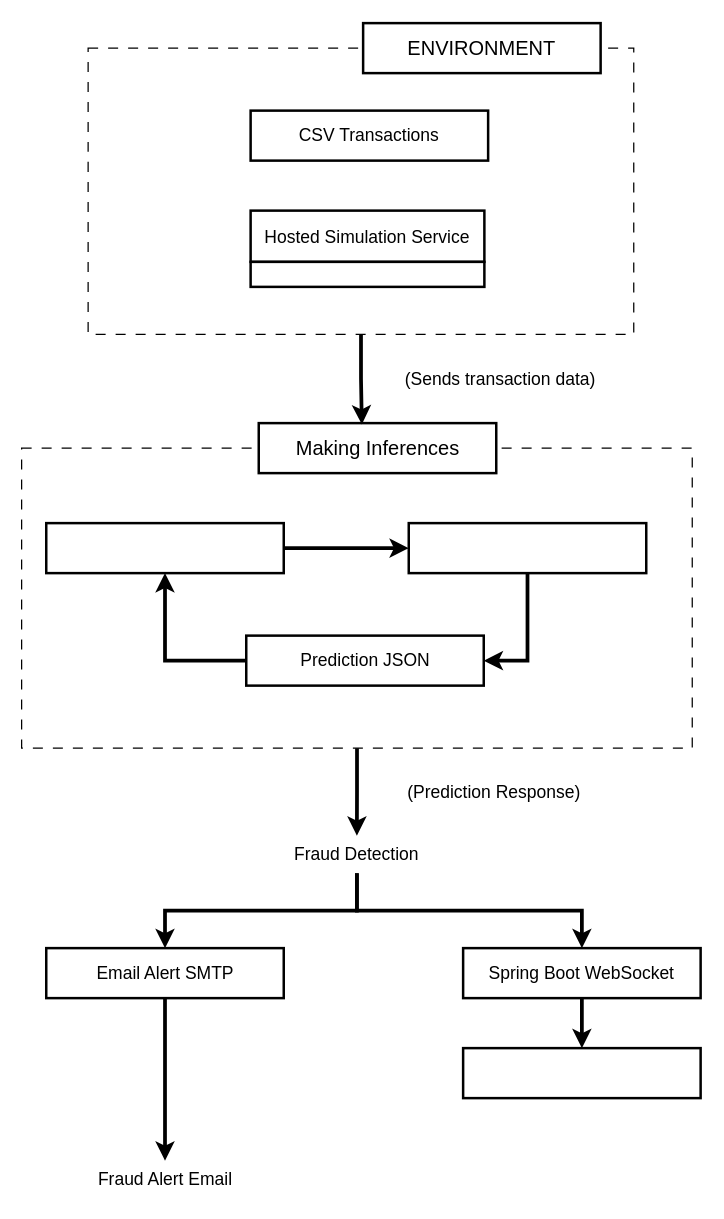
The diagram is 724 pixels wide and 1219 high, and some of its shapes have lost their labels. Here are the shapes that lost their labels. From the top down, the centre of each, then its label:
(367,274): (Springboot)
(164,547): Flask API
(527,547): XGBoost Model
(581,1072): Frontend UI
